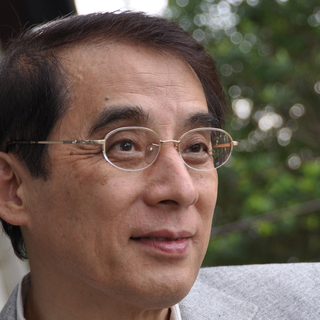eye: (178, 136, 217, 161), (104, 136, 142, 159)
